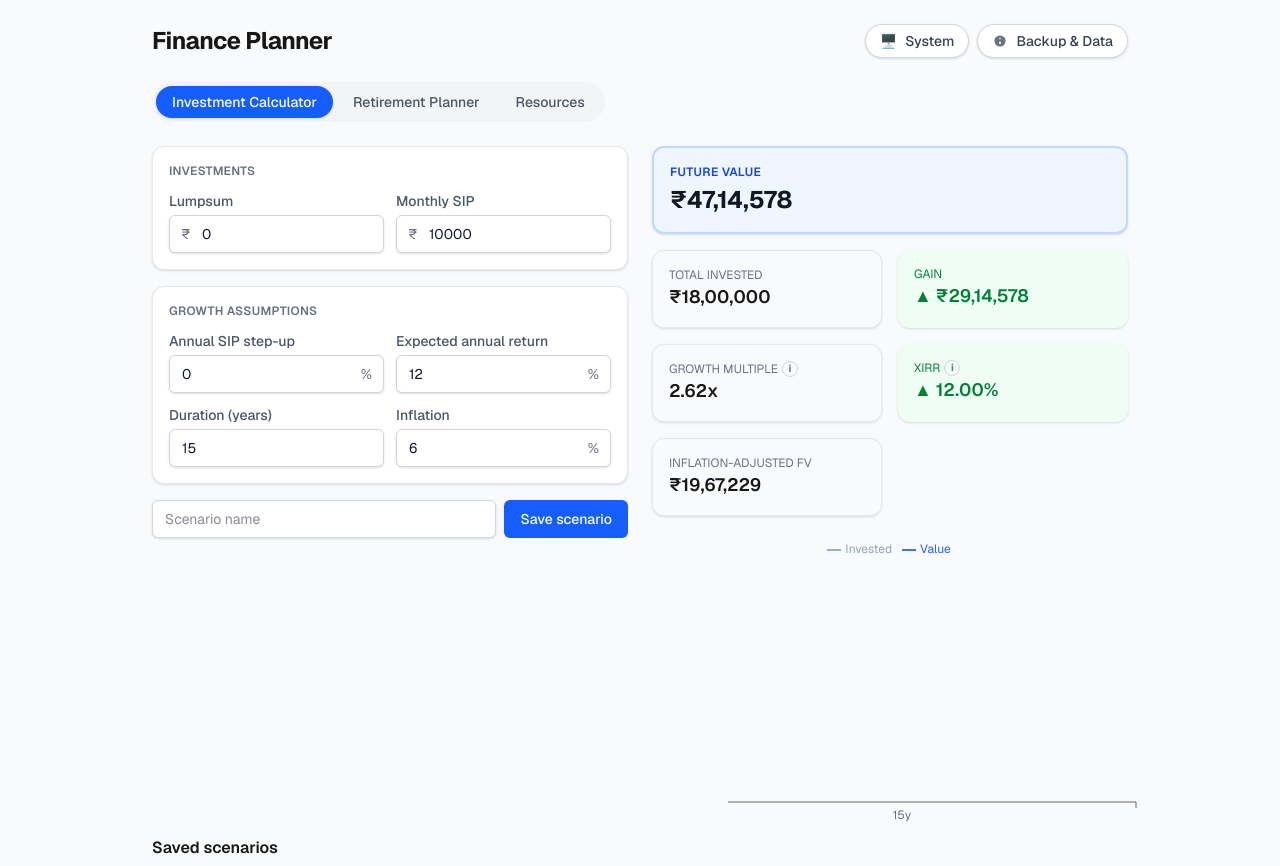
Test: App handoff › never hands off a non-finite SIP to the Calculator (retirement age <= current age)
The image size is (1280, 866).
Step 1. Click the button "Retirement Planner" → (416, 102), box [337, 86, 496, 118]
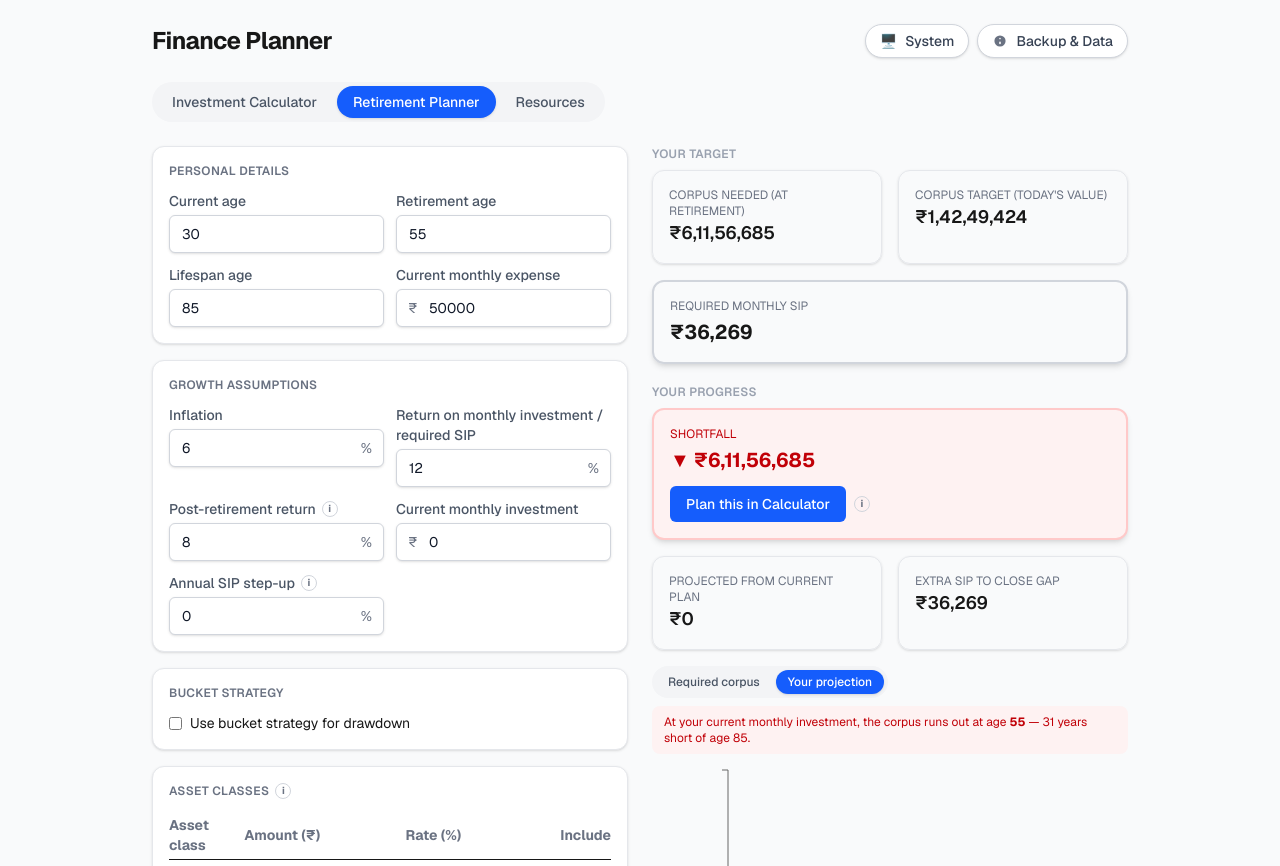
Step 2. Replace the text in the number field labelled "Retirement age" with "30" → (504, 234), box [396, 215, 611, 253]
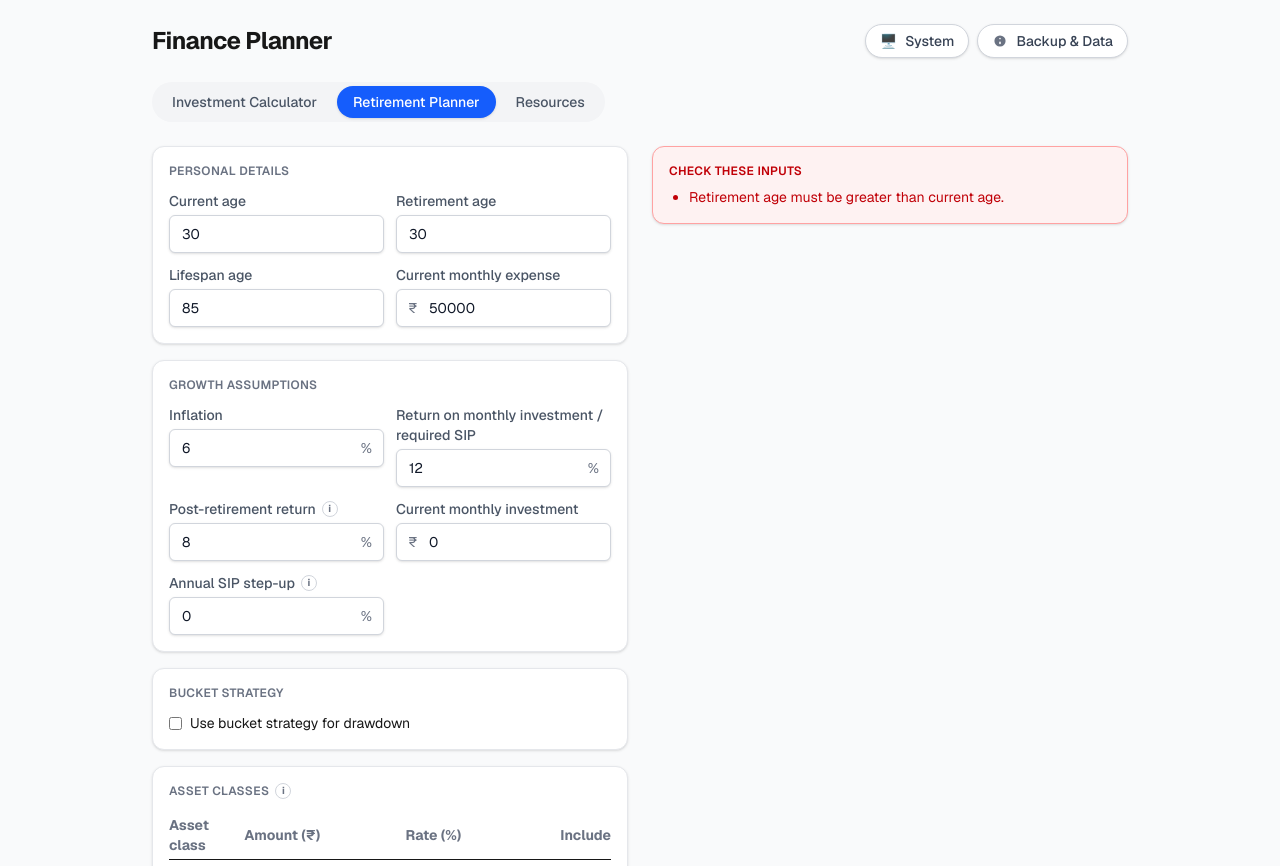
Expected: the button "Plan this in Calculator" is gone
Expected: the list item "Retirement age must be greater than current age." is shown, [689, 188, 1004, 206]
Expected: the text labelled "monthly SIP" is gone
